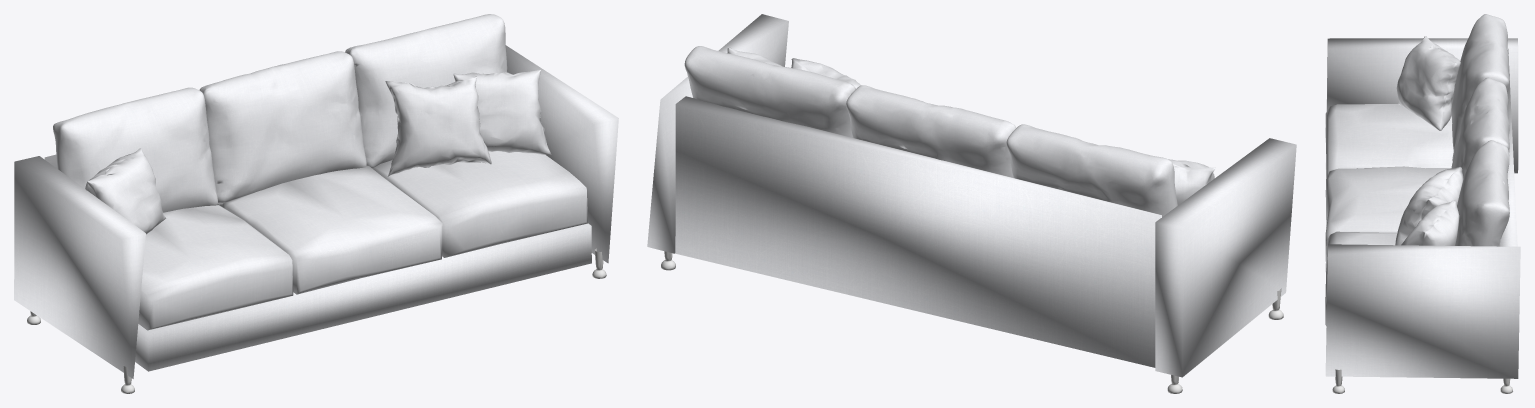
3 renders of one model, left to right at view 1: azimuth 30°, elevation 25°; view 2: azimuth 150°, elevation 25°; view 3: azimuth 270°, elevation 25°, orthographic. The views are drawn at different scales.
Visible parts, largest first — view 1: user-sofa; view 2: user-sofa; view 3: user-sofa.
Part boxes in pixels (<box>): user-sofa: <box>14,14,618,393</box>; user-sofa: <box>647,14,1296,393</box>; user-sofa: <box>1325,14,1520,393</box>.
Bounding box in the file's own units: 0.9944 × 0.388 × 0.3786.
Materials: 4 (3 with a texture image).
